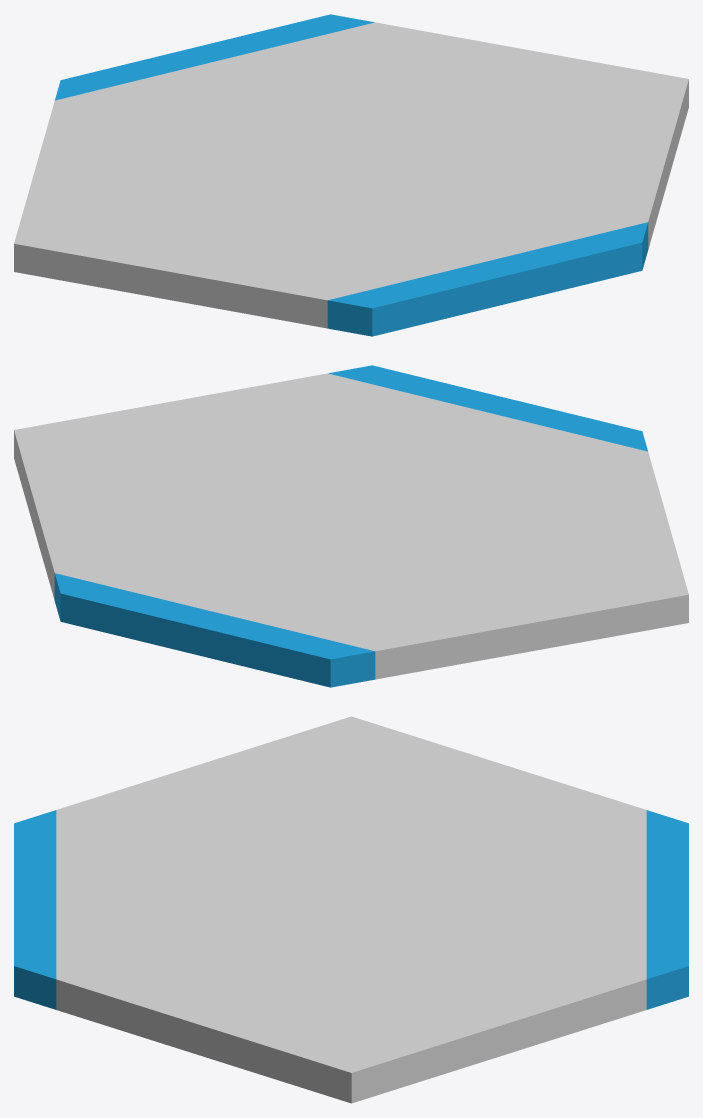
3 views of the same model, one above another, from view 1: azimuth 30°, elevation 25°; view 2: azimuth 150°, elevation 25°; view 3: azimuth 270°, elevation 25° (orthographic). The views are drawn at different scales.
Visible parts, largest first — view 1: Hexagon, S, N; view 2: Hexagon, N, S; view 3: Hexagon, S, N.
Part boxes in pixels (left/top/right/bottom): Hexagon: left=14, top=22, right=688, bottom=328; S: left=327, top=222, right=648, bottom=336; N: left=55, top=14, right=374, bottom=100; Hexagon: left=14, top=373, right=688, bottom=679; N: left=54, top=573, right=375, bottom=687; S: left=328, top=365, right=647, bottom=451; Hexagon: left=56, top=716, right=646, bottom=1103; S: left=14, top=810, right=56, bottom=1009; N: left=646, top=810, right=688, bottom=1009.
Size of the model in its own units: 5 by 4 by 0.2.
